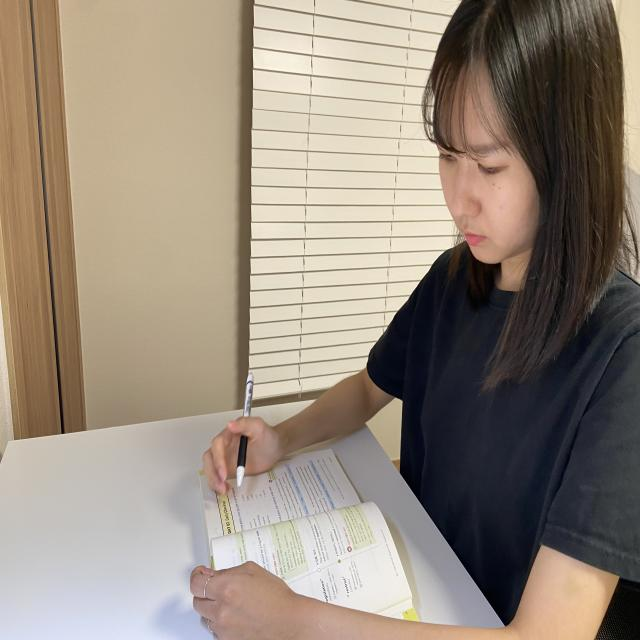studying-person: (201, 2, 640, 640)
